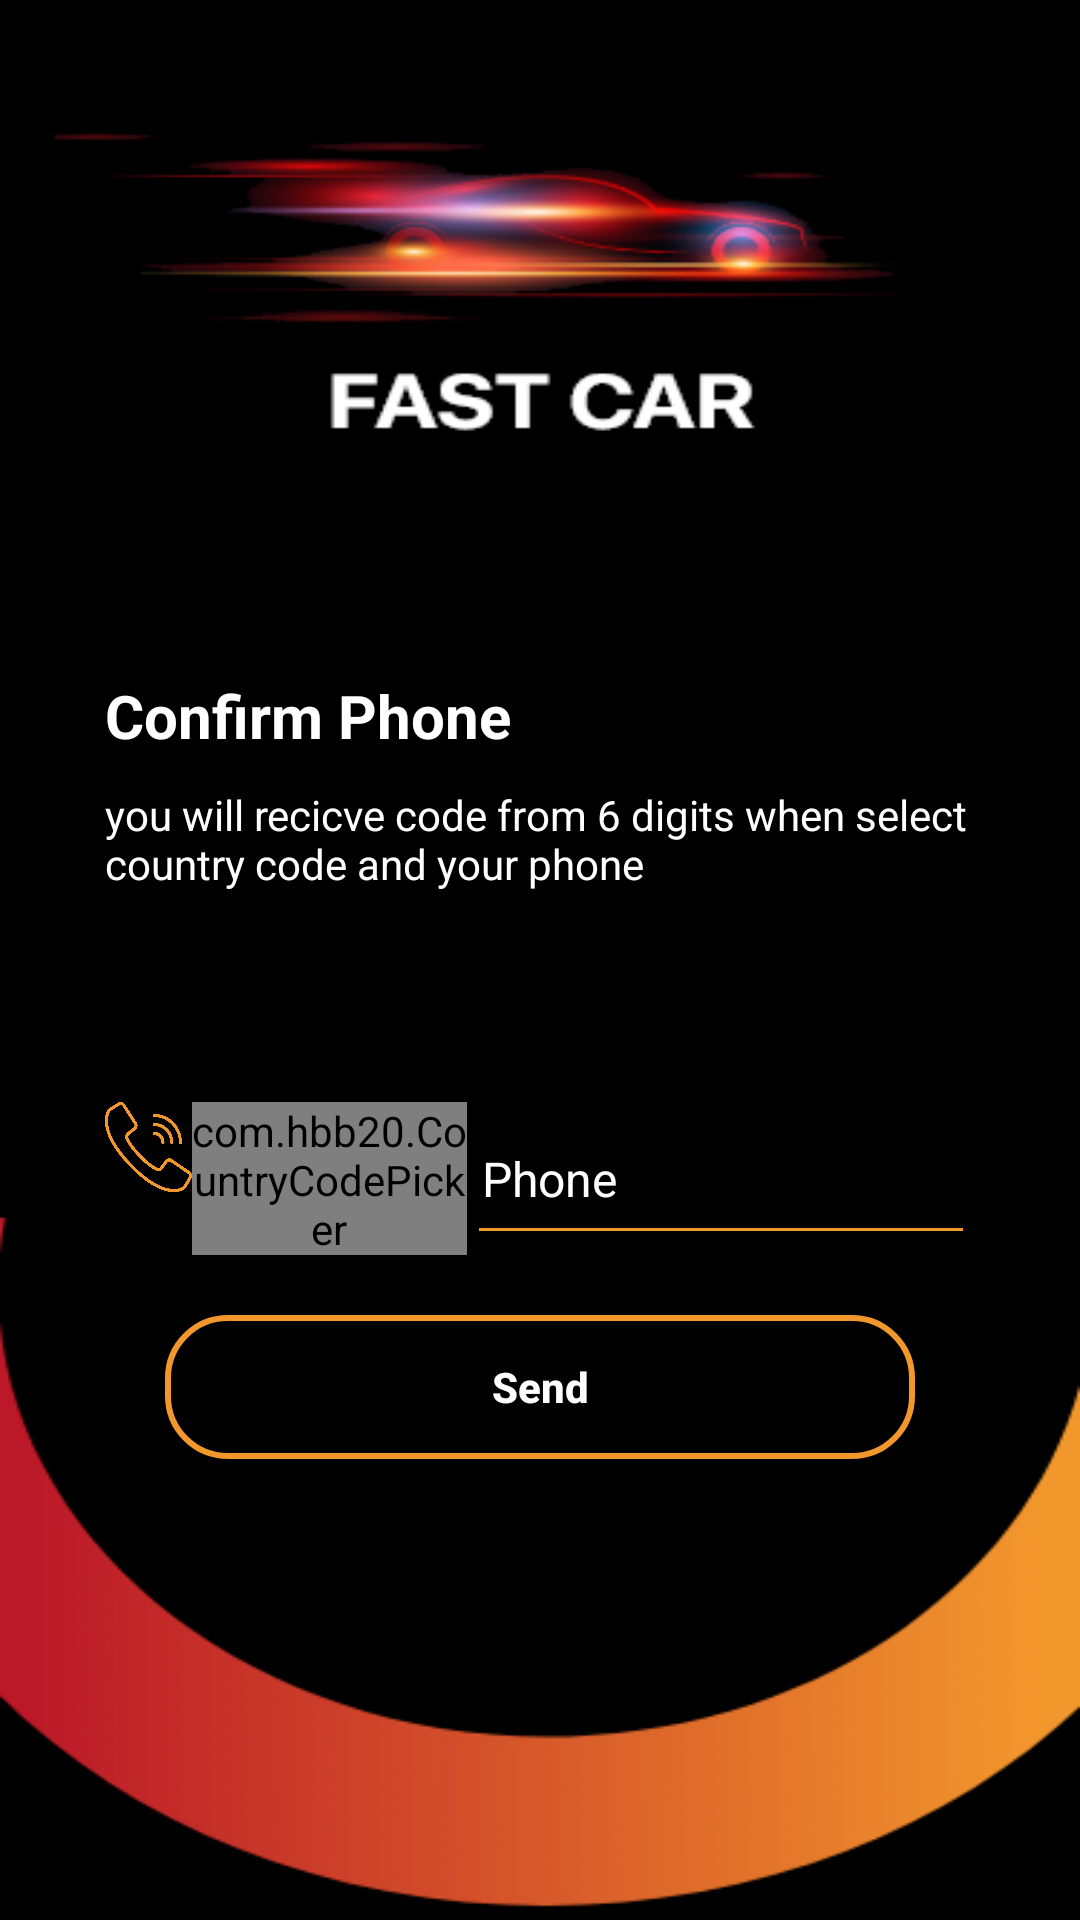

Icon bounding boxes for this 1080px x 1920px phone screenshot, format (x1, y1, x2, y2):
phone: (105, 1102, 192, 1192)
